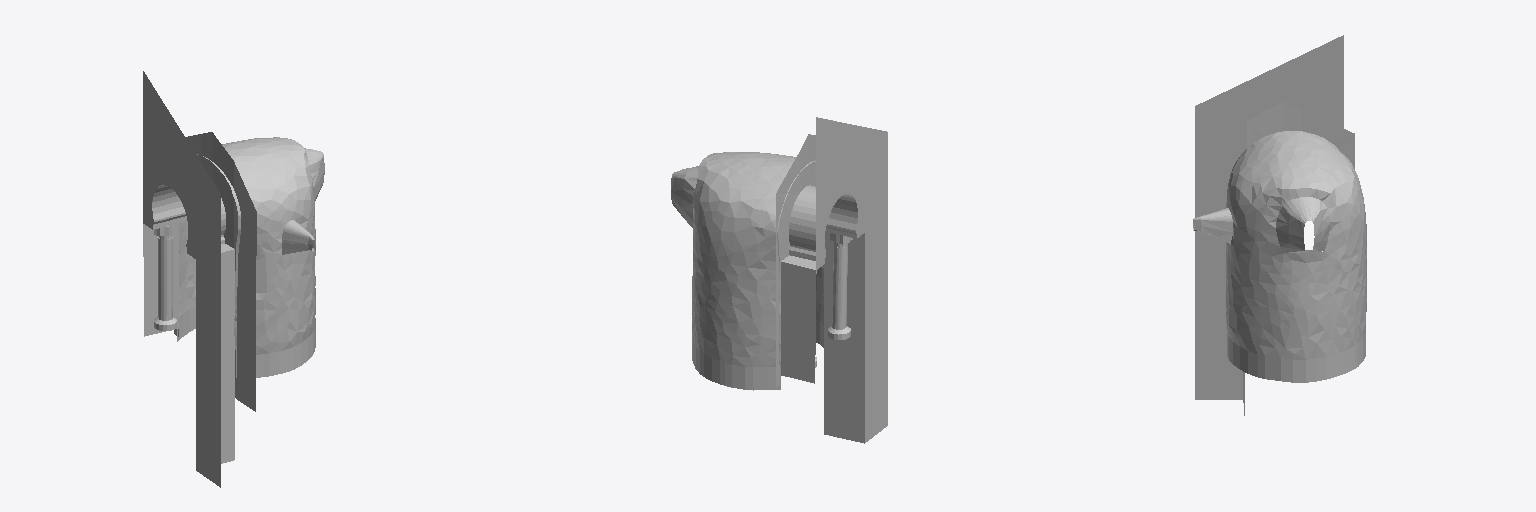
File: 5_Pedret_XII.obj
3 views of the same model, side by side, from view 1: azimuth 30°, elevation 25°; view 2: azimuth 150°, elevation 25°; view 3: azimuth 270°, elevation 25° (orthographic).
Parts seen in each view (by area): view 1: PEDRET_XII-baked-absS; view 2: PEDRET_XII-baked-absS; view 3: PEDRET_XII-baked-absS.
Part boxes in pixels (left/top/right/bottom): PEDRET_XII-baked-absS: left=143, top=71, right=324, bottom=487; PEDRET_XII-baked-absS: left=671, top=117, right=887, bottom=443; PEDRET_XII-baked-absS: left=1193, top=35, right=1366, bottom=415.
Bounding box in the file's own units: 2.87 × 6.19 × 2.68.